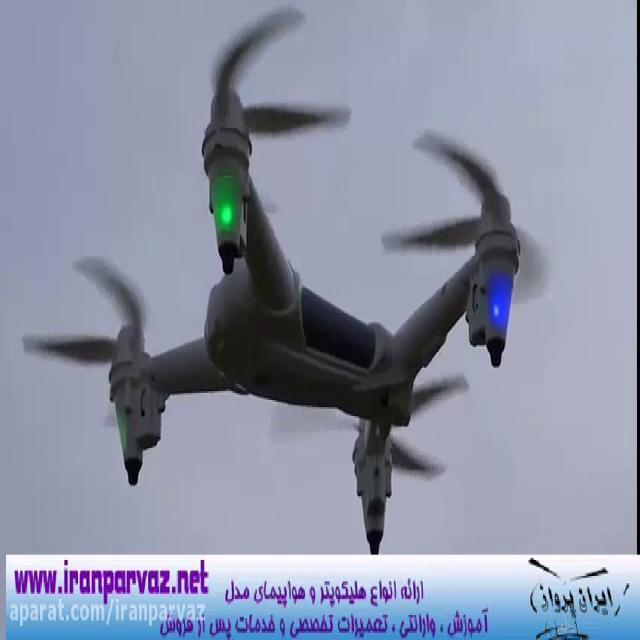drone: (18, 2, 558, 553)
